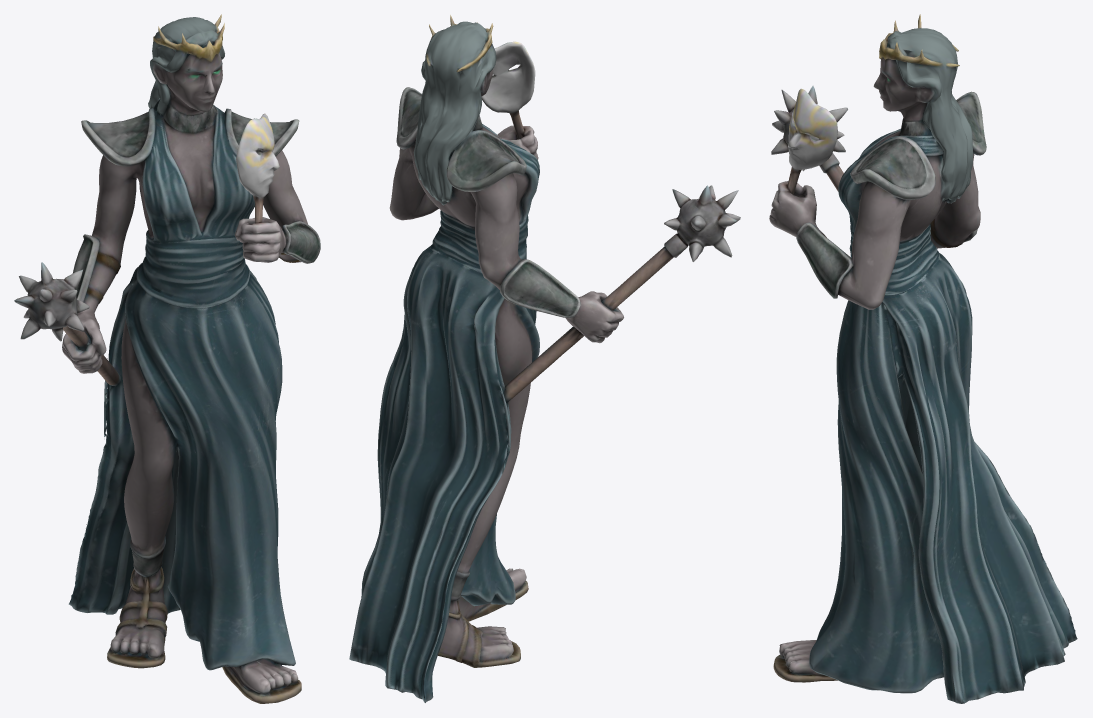
The model's file is MZ4250 - Cloud Giant (Female).glb.
3 views of the same model, side by side, from view 1: azimuth 30°, elevation 25°; view 2: azimuth 150°, elevation 25°; view 3: azimuth 270°, elevation 25° (orthographic). The views are drawn at different scales.
Visible parts, largest first — view 1: gpcloudgiant01.001; view 2: gpcloudgiant01.001; view 3: gpcloudgiant01.001.
Part boxes in pixels (box(x1,y1,x2,y2)): gpcloudgiant01.001: box(14, 14, 320, 703); gpcloudgiant01.001: box(349, 15, 740, 702); gpcloudgiant01.001: box(769, 14, 1077, 703).
Bounding box in the file's own units: 0.6062 × 1.13 × 0.4994.
1 material, 1 textured.
